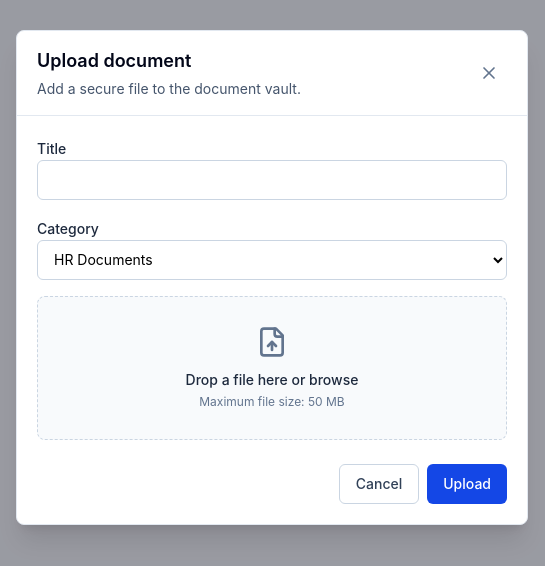
Test: UploadDialog › should show validation error when title is empty
This screenshot has width=545, height=566.
Click the button "Upload".
click(467, 484)  # box [427,464,507,504]
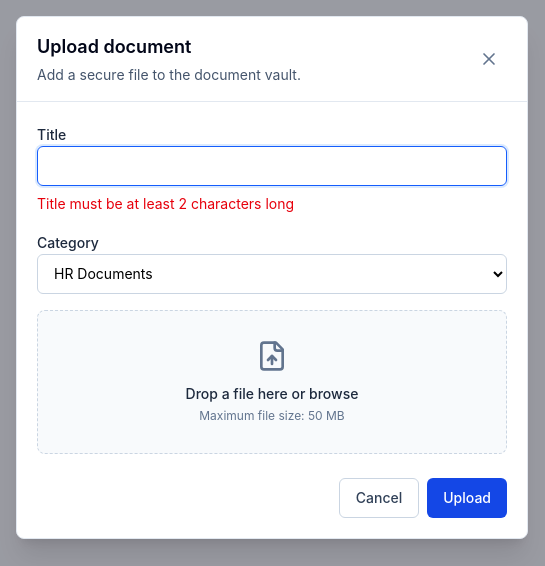
Check: the text "Title must be at least 2 characters long" is shown, box [37,194,294,212]
